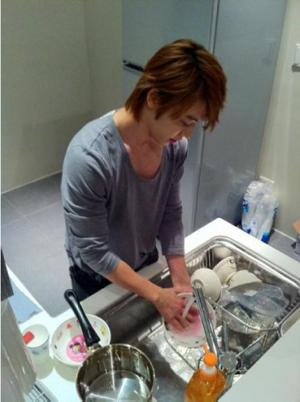person: (60, 38, 228, 333)
